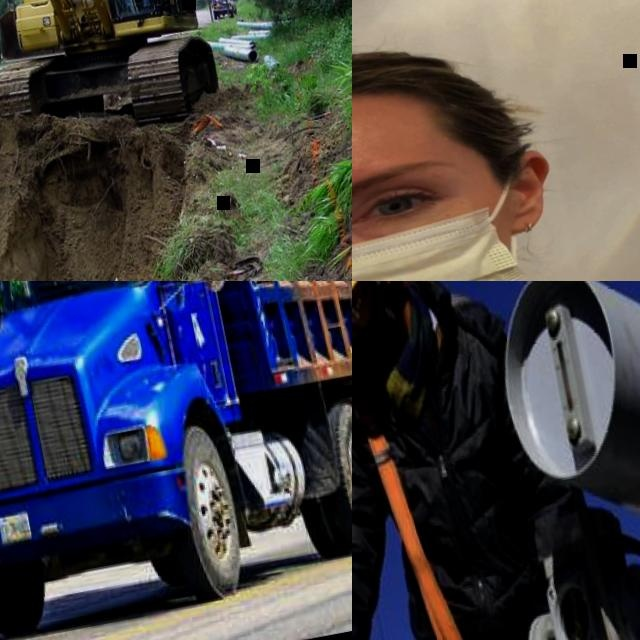Mask: (352, 295, 412, 377)
NO-Hardhat: (352, 25, 508, 187)
NO-Safety Vest: (361, 292, 555, 640)
Person: (352, 281, 637, 640), (352, 6, 640, 281)
machinery: (0, 281, 352, 640), (0, 0, 292, 281)
vehicle: (209, 0, 238, 21)
